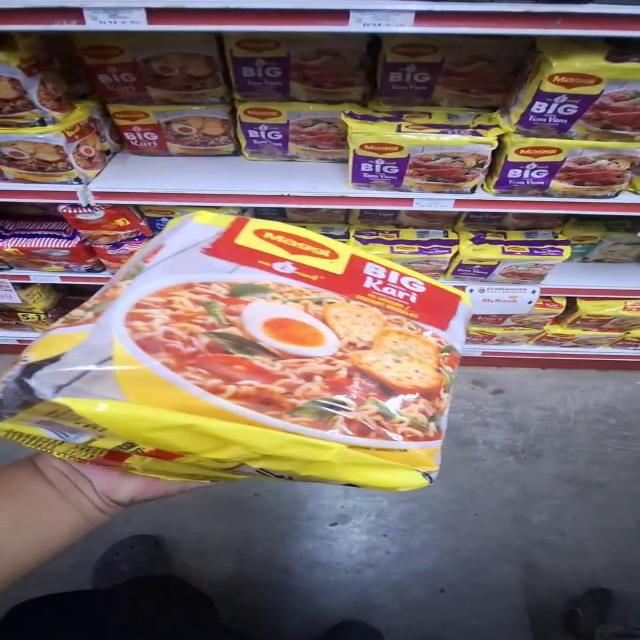Maggi: (18, 200, 459, 492), (3, 61, 98, 191), (348, 119, 495, 193), (512, 49, 640, 131), (99, 106, 243, 162), (506, 141, 640, 201), (242, 106, 350, 166), (549, 304, 640, 355)
